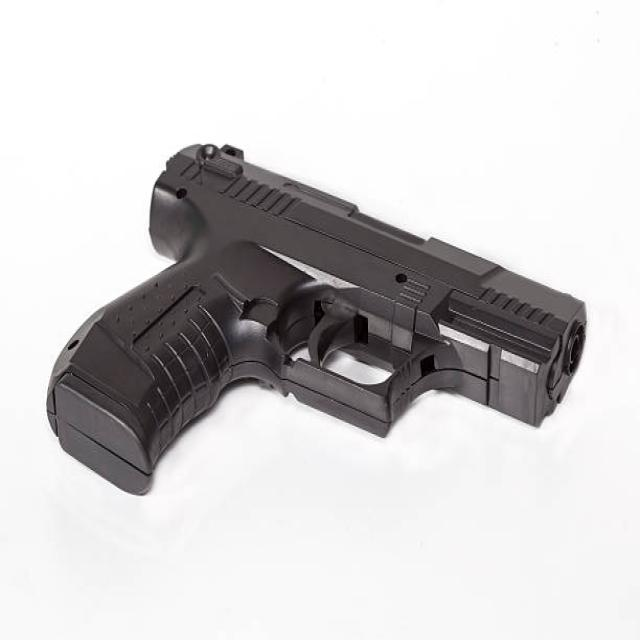pistol: (38, 132, 594, 499)
